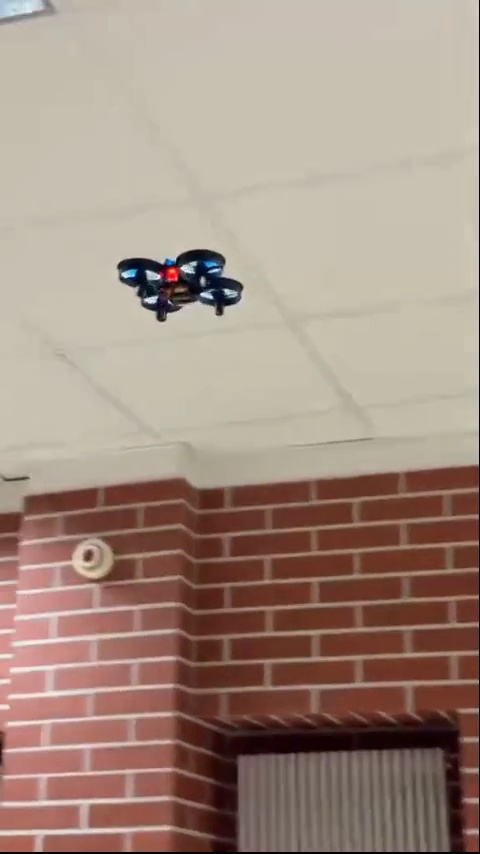drone: (116, 253, 253, 325)
